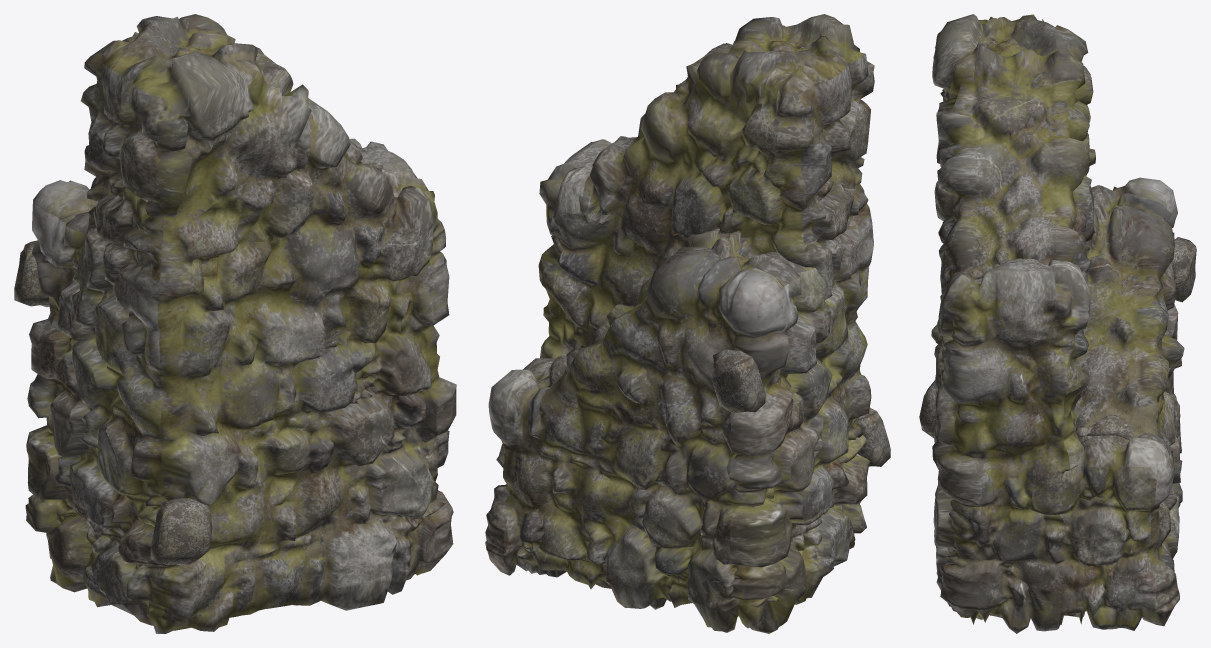
The model's file is SM_Wall_Stone_04.fbx.
3 renders of one model, left to right at view 1: azimuth 30°, elevation 25°; view 2: azimuth 150°, elevation 25°; view 3: azimuth 270°, elevation 25°, orthographic. The views are drawn at different scales.
Parts seen in each view (by area): view 1: SM_Wall_Stone_04_LOD0; view 2: SM_Wall_Stone_04_LOD0; view 3: SM_Wall_Stone_04_LOD0.
Boxes of the visible parts, x1,y1,x2,y2 form: SM_Wall_Stone_04_LOD0: [14, 14, 456, 633]; SM_Wall_Stone_04_LOD0: [485, 14, 890, 633]; SM_Wall_Stone_04_LOD0: [919, 14, 1196, 633].
Size of the model in its own units: 179 by 151 by 314.
